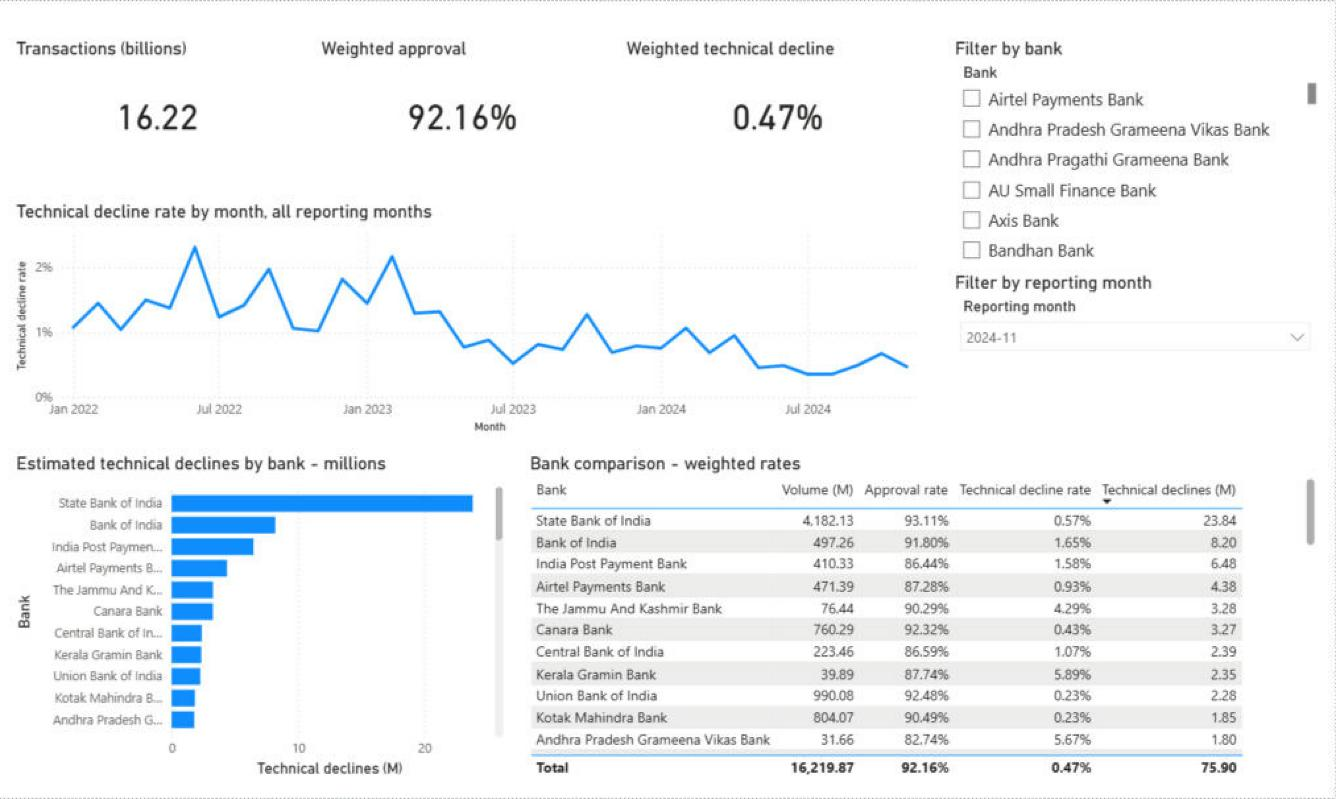

This screenshot's page, from the dashboard's own definition file:
{"tool":"powerbi","page":{"name":"UPI Reliability","canvas":[1280,740],"ordinal":0},"visuals":[{"type":"card","title":"Transactions (billions)","fields":{"Values":["Reliability.Billion transactions"]},"box":[12,12,280,126],"z":0},{"type":"card","title":"Weighted approval","fields":{"Values":["Reliability.Approval rate"]},"box":[304,12,280,126],"z":1},{"type":"card","title":"Weighted technical decline","fields":{"Values":["Reliability.Technical decline rate"]},"box":[596,12,300,126],"z":2},{"type":"slicer","title":"Filter by bank","fields":{"Values":["Reliability.Bank"]},"box":[910,12,355,216],"z":3},{"type":"lineChart","title":"Technical decline rate by month, all reporting months","fields":{"Category":["Reliability.Month"],"Y":["Reliability.Technical decline rate"]},"box":[12,167,884,228],"z":4},{"type":"barChart","title":"Estimated technical declines by bank - millions","fields":{"Category":["Reliability.Bank"],"Y":["Reliability.Technical declines (M)"]},"box":[12,409,476,315],"z":5},{"type":"tableEx","title":"Bank comparison - weighted rates","fields":{"Values":["Reliability.Bank","Reliability.Volume (M)","Reliability.Approval rate","Reliability.Technical decline rate","Reliability.Technical declines (M)"]},"box":[504,409,761,315],"z":6},{"type":"slicer","title":"Filter by reporting month","fields":{"Values":["Reliability.Reporting month"]},"box":[910,235,355,160],"z":7}]}

Visuals, with their boxes on the page's 1280x740 design canvas (x1, y1, x2, y2). These are canvas units, not pixel positions in the 1336x799 screenshot, which may show the page scaled, cropped or inside an application window:
"Transactions (billions)" card: [left=12, top=12, right=292, bottom=138]
"Weighted approval" card: [left=304, top=12, right=584, bottom=138]
"Weighted technical decline" card: [left=596, top=12, right=896, bottom=138]
"Filter by bank" slicer: [left=910, top=12, right=1265, bottom=228]
"Technical decline rate by month, all reporting months" lineChart: [left=12, top=167, right=896, bottom=395]
"Estimated technical declines by bank - millions" barChart: [left=12, top=409, right=488, bottom=724]
"Bank comparison - weighted rates" tableEx: [left=504, top=409, right=1265, bottom=724]
"Filter by reporting month" slicer: [left=910, top=235, right=1265, bottom=395]
